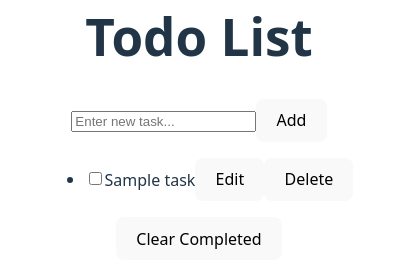
it: можно отредактировать задачу и сохранить новое значение
Click the button "Edit": (230, 180) [195, 158, 264, 201]
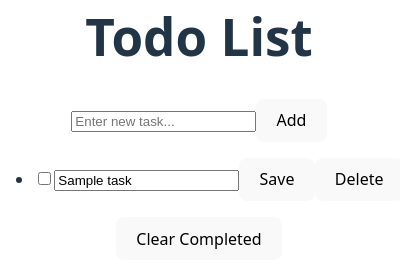
Replace the text in the field showing "sample task" with "Обновленная задача": (147, 181) [54, 170, 239, 192]
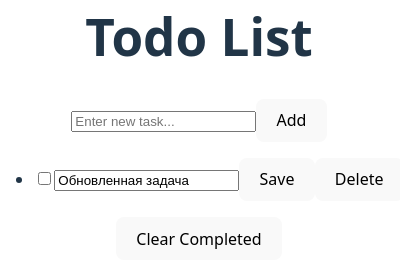
Click the button "Save": (277, 180) [239, 158, 315, 201]
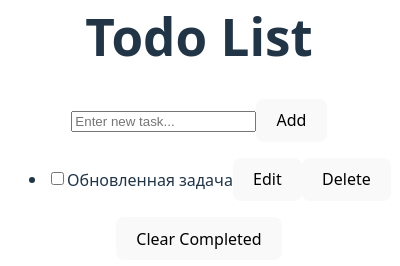
Expected: the text "Обновленная задача" is shown, [67, 168, 233, 190]
